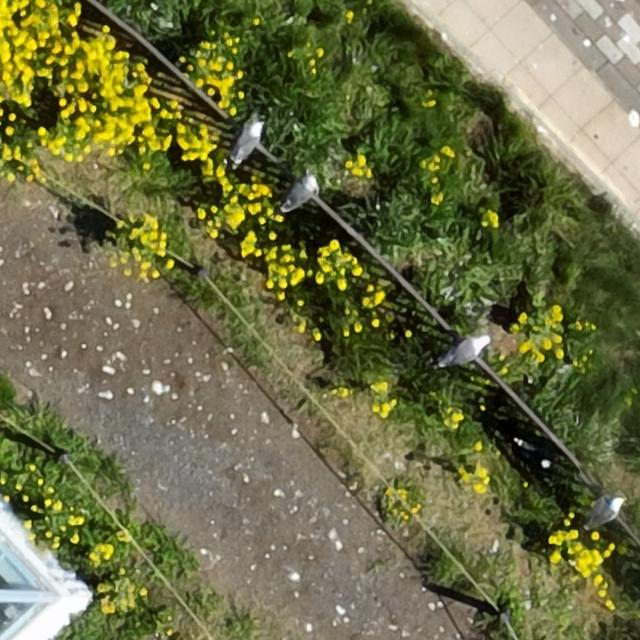umineko: (443, 335, 490, 363), (282, 177, 317, 210), (234, 123, 262, 162), (586, 498, 620, 526)
